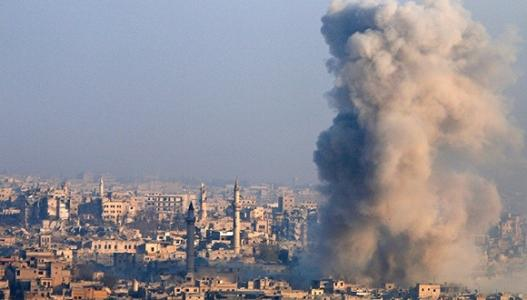smoke: (313, 6, 498, 278)
